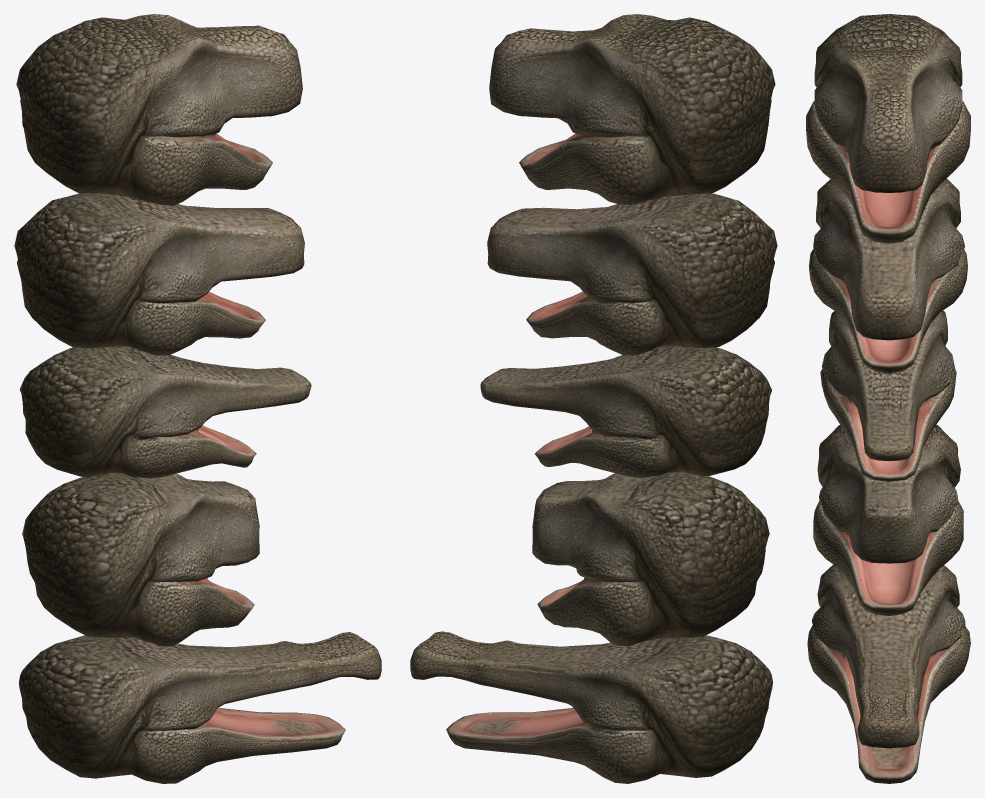
Rendered from heads.glb.
3 views of the same model, side by side, from view 1: azimuth 30°, elevation 25°; view 2: azimuth 150°, elevation 25°; view 3: azimuth 270°, elevation 25° (orthographic). The views are drawn at different scales.
Visible parts, largest first — view 1: tripo_node_0feb6055-5a92-4b7d-a244-f5f6a1c32013; view 2: tripo_node_0feb6055-5a92-4b7d-a244-f5f6a1c32013; view 3: tripo_node_0feb6055-5a92-4b7d-a244-f5f6a1c32013.
Part boxes in pixels (left/top/right/bottom): tripo_node_0feb6055-5a92-4b7d-a244-f5f6a1c32013: left=14, top=14, right=381, bottom=783; tripo_node_0feb6055-5a92-4b7d-a244-f5f6a1c32013: left=410, top=14, right=777, bottom=783; tripo_node_0feb6055-5a92-4b7d-a244-f5f6a1c32013: left=806, top=14, right=970, bottom=783.
Size of the model in its own units: 0.4668 by 0.998 by 0.2246.
1 material, 1 textured.
